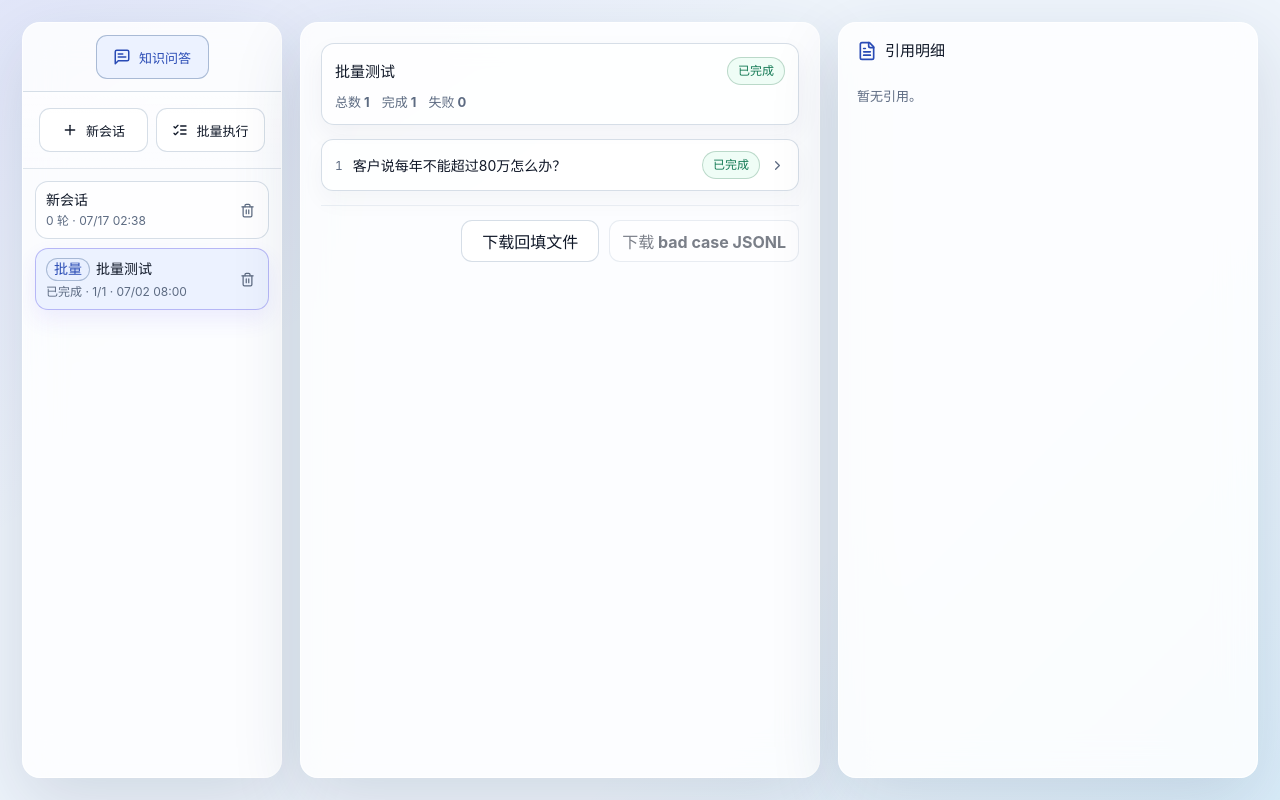
Test: 批量行详情自动选中证据并联动右侧明细
This screenshot has width=1280, height=800.
expect the text "暂无引用。" is shown: met, box x1=857 y1=88 x2=922 y2=104
Click the button "1 客户说每年不能超过80万怎么办？ 已完成" at (560, 165), box x1=321 y1=139 x2=799 y2=191
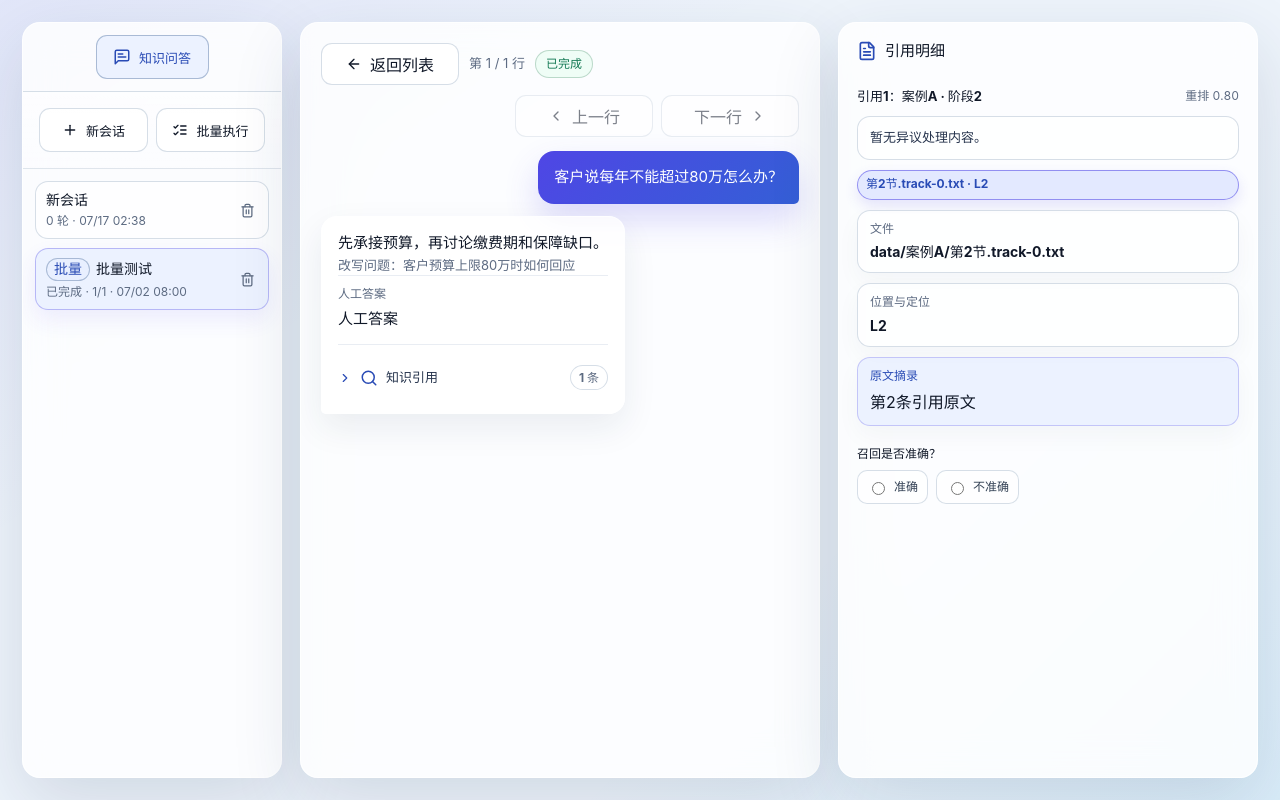
expect the text "先承接预算，再讨论缴费期和保障缺口。" is shown: met, box x1=338 y1=231 x2=608 y2=256
expect the text "引用1：案例A · 阶段2" is shown: met, box x1=857 y1=87 x2=982 y2=106
expect the text "data/案例A/第2节.track-0.txt" is shown: met, box x1=870 y1=243 x2=1064 y2=260
展开紧凑知识引用列表，只保留实际引用且选中行处于按下状态。
Click the button "知识引用 1 条" at (412, 377), box x1=338 y1=356 x2=608 y2=398
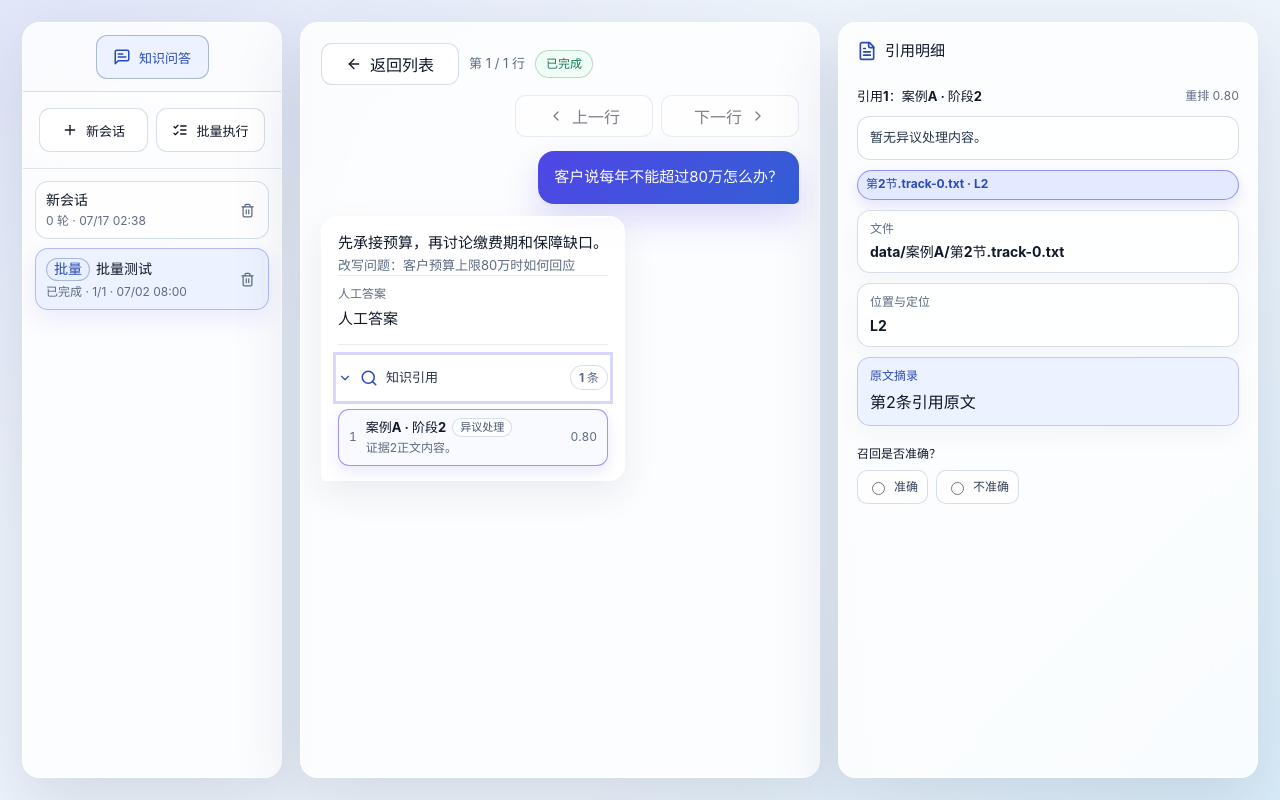
expect the text "1" is shown: met, box x1=349 y1=427 x2=357 y2=447
expect the text "案例A · 阶段2" is shown: met, box x1=366 y1=418 x2=446 y2=437
expect the text "证据2正文内容。" is shown: met, box x1=366 y1=440 x2=457 y2=455
Click the radio button with aria-label "引用1召回准确" at (878, 489), box x1=872 y1=482 x2=885 y2=495
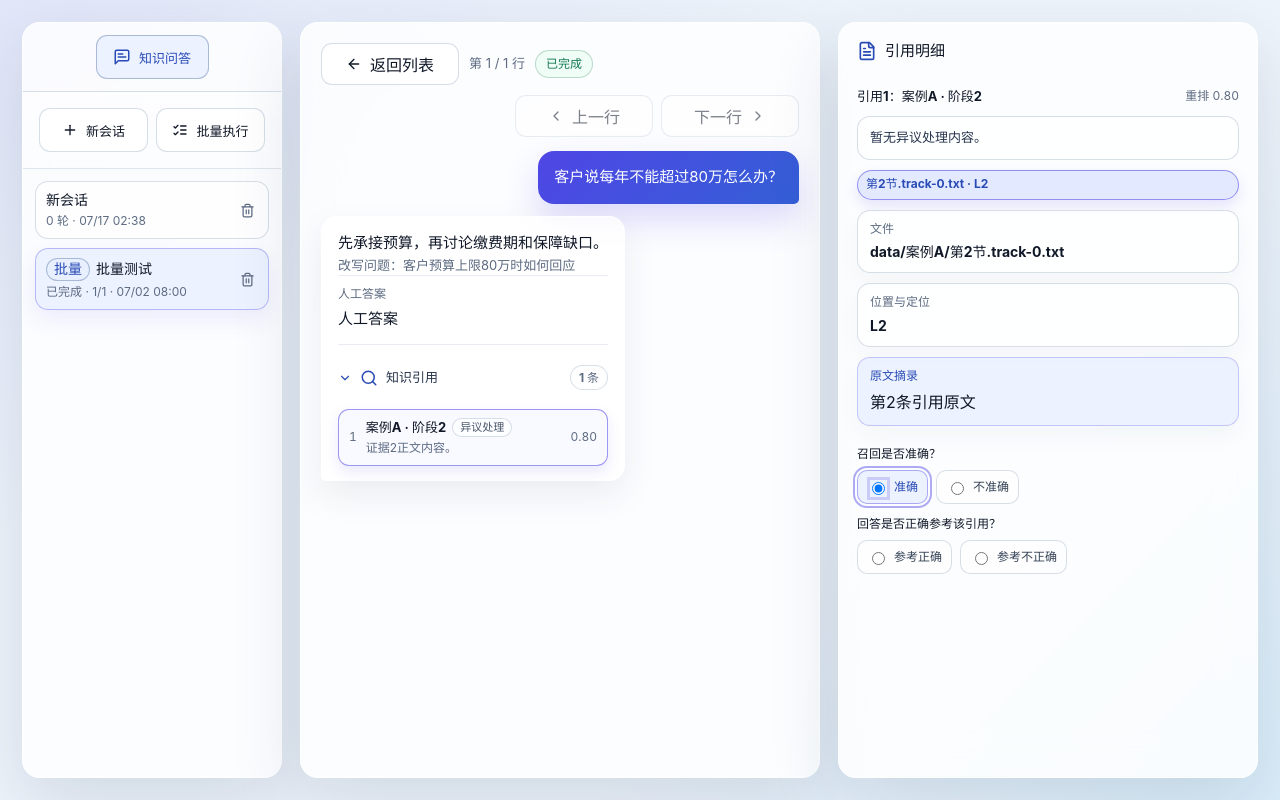
Click the radio button with aria-label "引用1参考正确" at (878, 558), box x1=872 y1=552 x2=885 y2=565
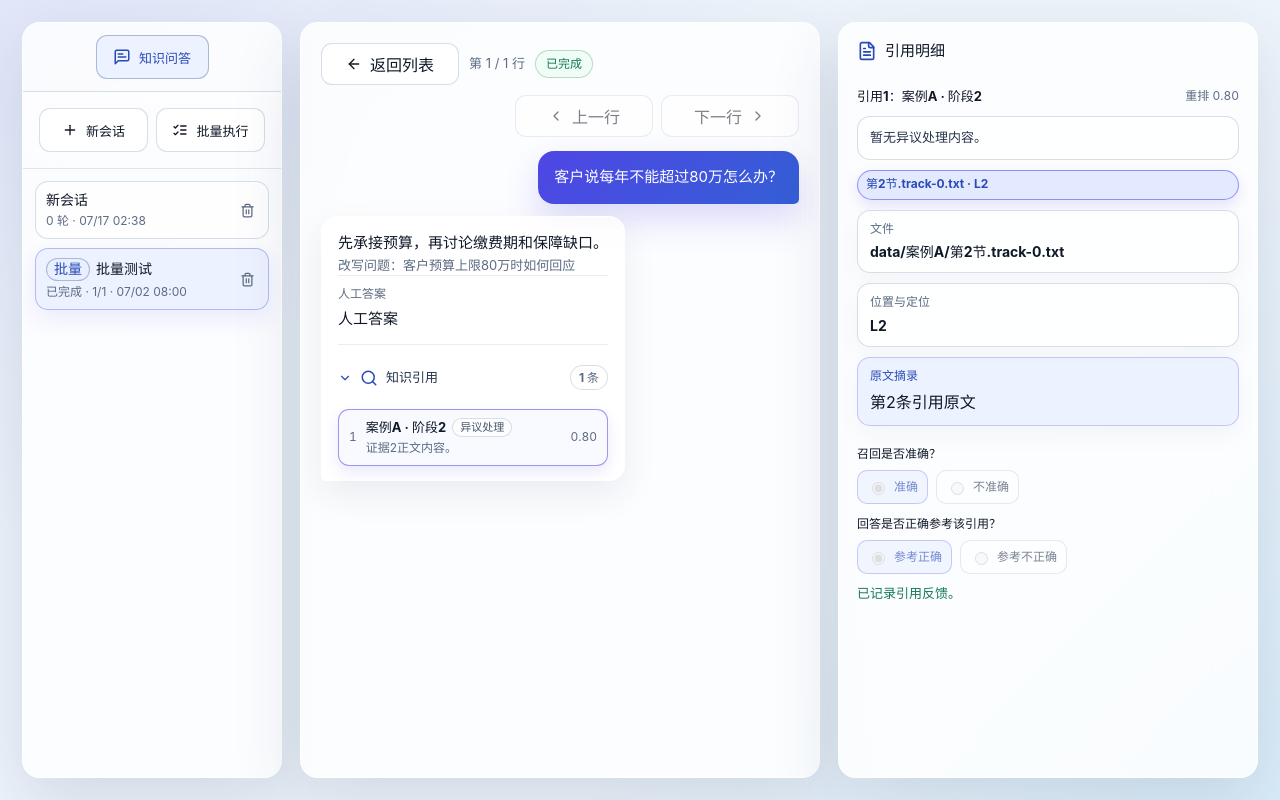
expect the text "已记录引用反馈。" is shown: met, box x1=857 y1=585 x2=961 y2=601
